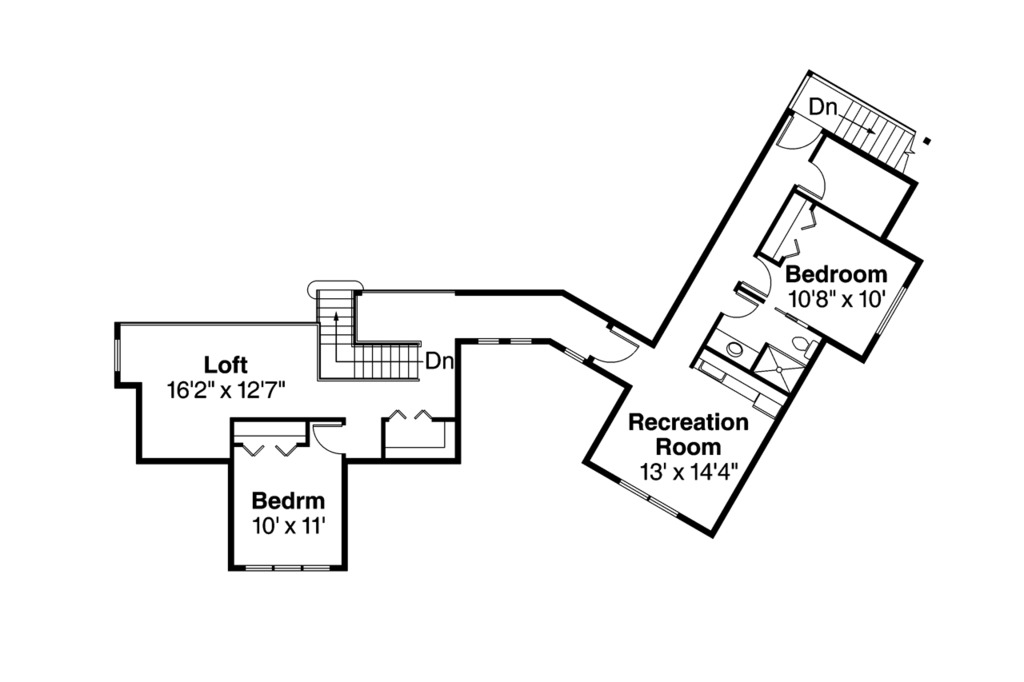door: (779, 112, 828, 154), (589, 328, 644, 364), (741, 252, 778, 296), (312, 423, 352, 459), (795, 157, 827, 197), (718, 294, 758, 320)
large_sink: (788, 328, 825, 362)
small_sink: (706, 327, 759, 369)
stairs: (312, 291, 421, 386), (834, 90, 915, 169)
window: (621, 484, 671, 512), (245, 563, 331, 574), (469, 338, 538, 346)
